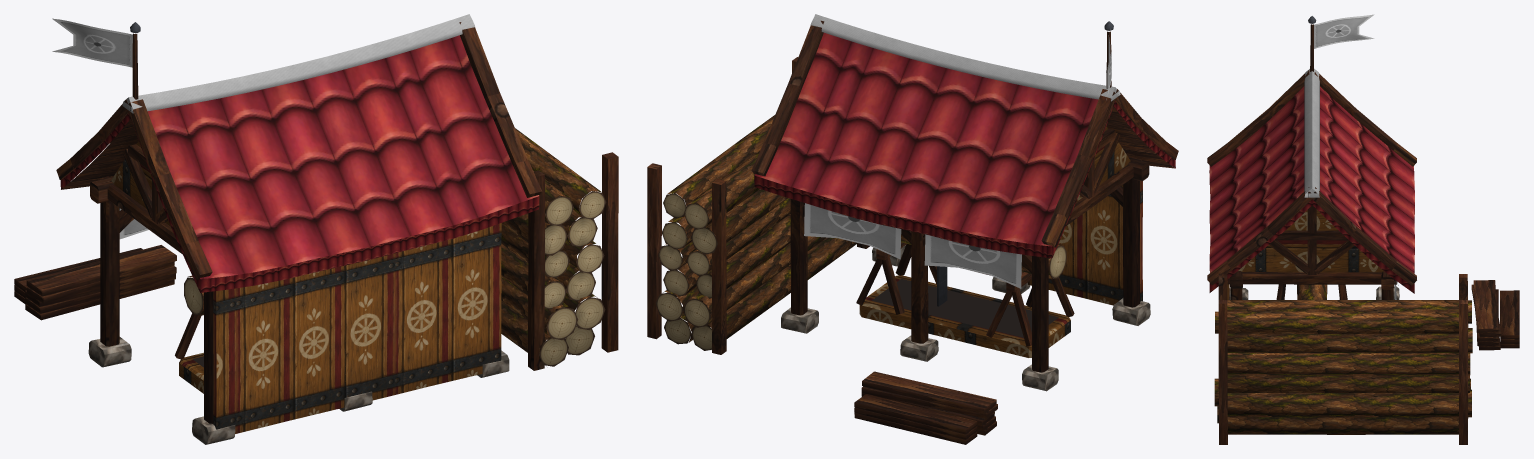
File: kingdom_timber_yard.glb
The picture shows the model from 3 angles, left to right: view 1: azimuth 30°, elevation 25°; view 2: azimuth 150°, elevation 25°; view 3: azimuth 270°, elevation 25°; orthographic projection. The views are drawn at different scales.
Parts seen in each view (by area): view 1: kingdom_timber_yard; view 2: kingdom_timber_yard; view 3: kingdom_timber_yard.
Part boxes in pixels (left/top/right/bottom): kingdom_timber_yard: left=14, top=14, right=618, bottom=444; kingdom_timber_yard: left=647, top=14, right=1178, bottom=444; kingdom_timber_yard: left=1207, top=14, right=1519, bottom=444.
Bounding box in the file's own units: 4.36 × 3.47 × 3.51.
Materials: 2 (2 with a texture image).
